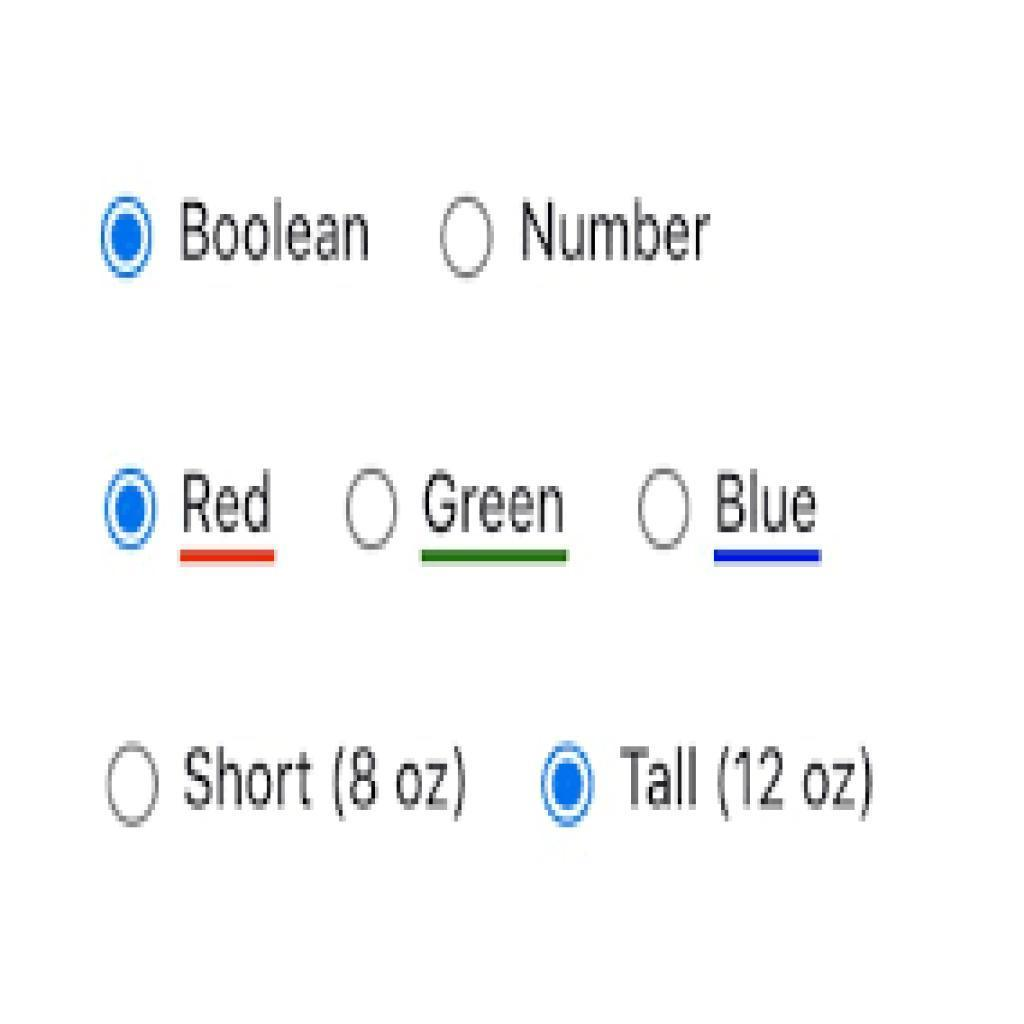radio: (536, 735, 606, 841), (339, 455, 404, 562), (102, 735, 164, 845), (438, 179, 497, 294), (98, 182, 159, 285), (104, 458, 164, 560), (637, 459, 696, 556)
